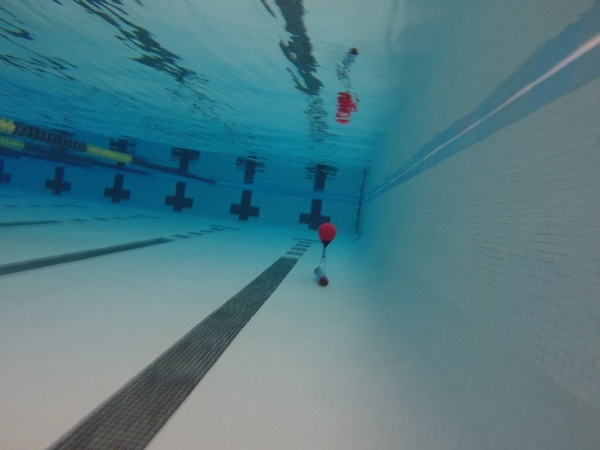buoy_red: (316, 221, 336, 252)
